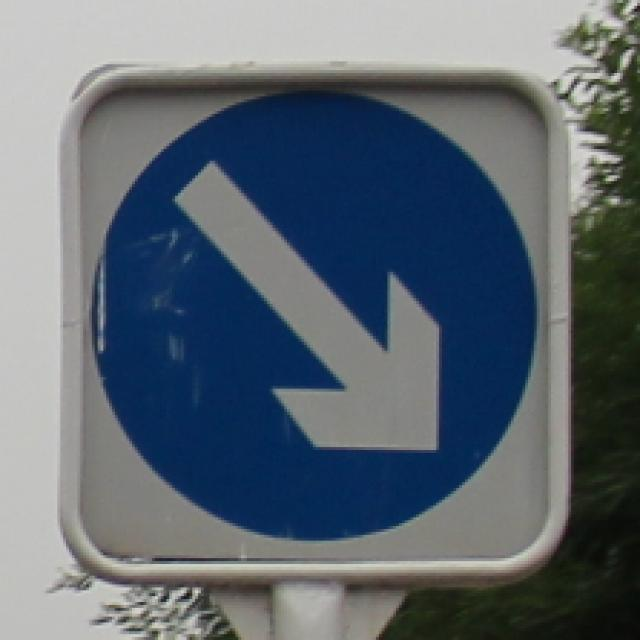Right: (94, 94, 544, 566)
